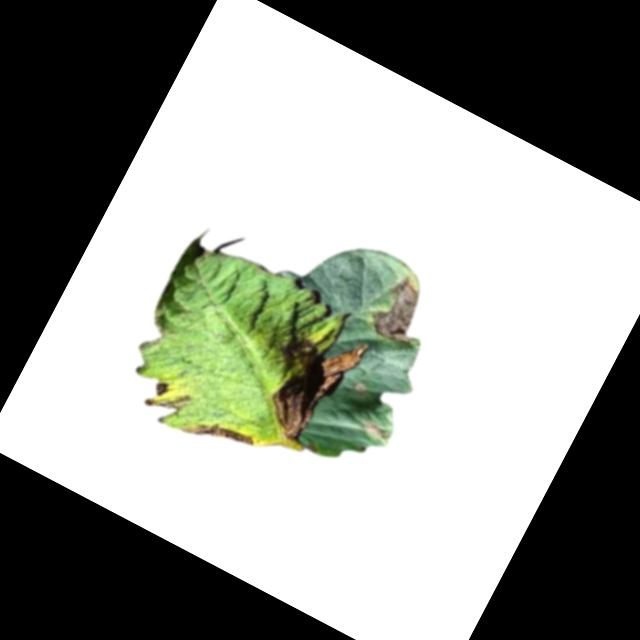Early_blight: (243, 310, 369, 451), (364, 271, 437, 352), (178, 404, 256, 466), (150, 375, 172, 400)
